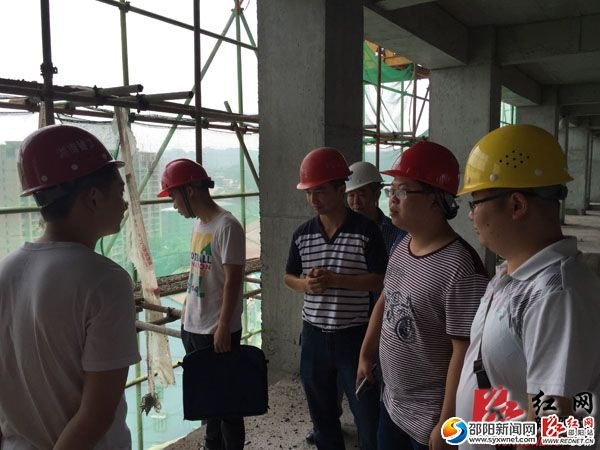red: (15, 122, 130, 249), (383, 140, 462, 228), (292, 143, 351, 212), (157, 156, 218, 222)
white: (339, 160, 386, 218)
yellow: (454, 123, 576, 254)
